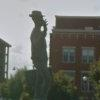Statue: (25, 8, 60, 100)
